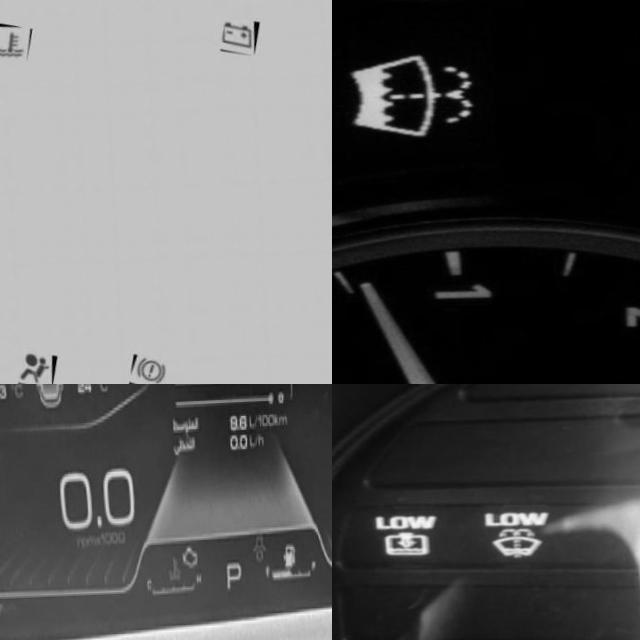High Engine Coolant Temperature: (161, 557, 177, 587)
Washer Fluid: (346, 52, 470, 142)
